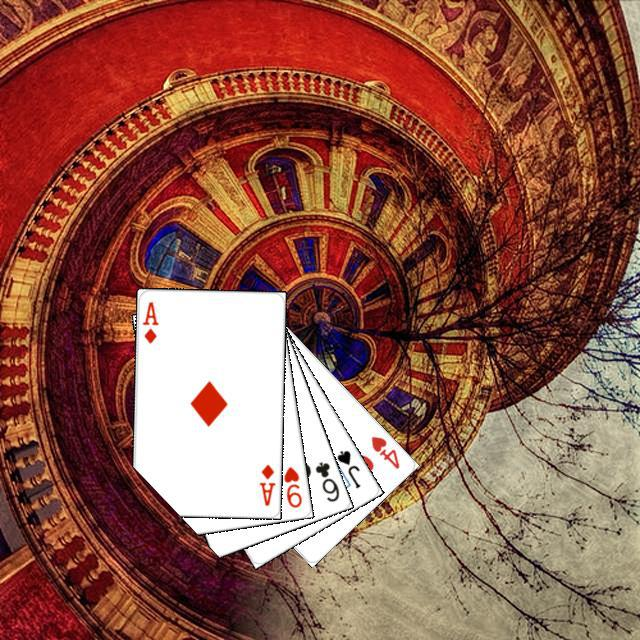4h: (366, 431, 401, 471)
6c: (310, 457, 341, 503)
9h: (279, 461, 304, 509)
Ad: (254, 459, 277, 507), (137, 297, 160, 345)
Js: (332, 445, 362, 490)
